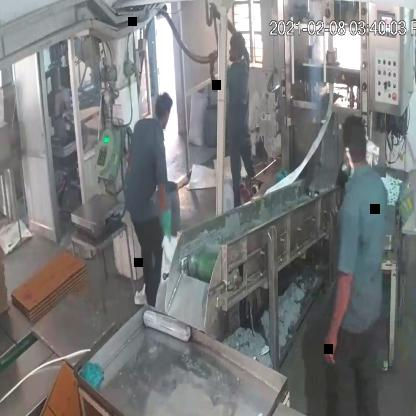glove: (149, 171, 181, 258)
no_glove: (320, 263, 354, 374)
